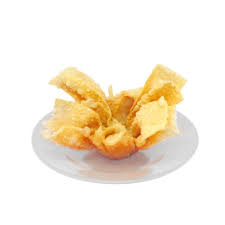Pangsit goreng: (40, 64, 187, 160)
